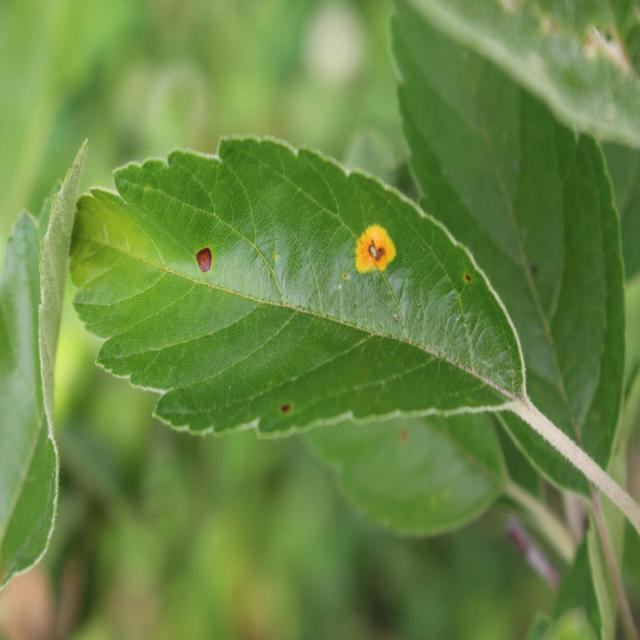Black Rot: (192, 246, 215, 275), (277, 399, 292, 421)
Rust: (354, 216, 398, 273), (398, 427, 414, 448), (461, 266, 474, 286)
